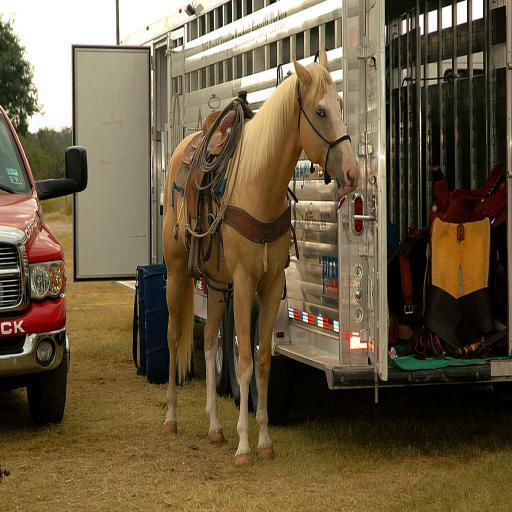horse: (160, 42, 360, 468)
